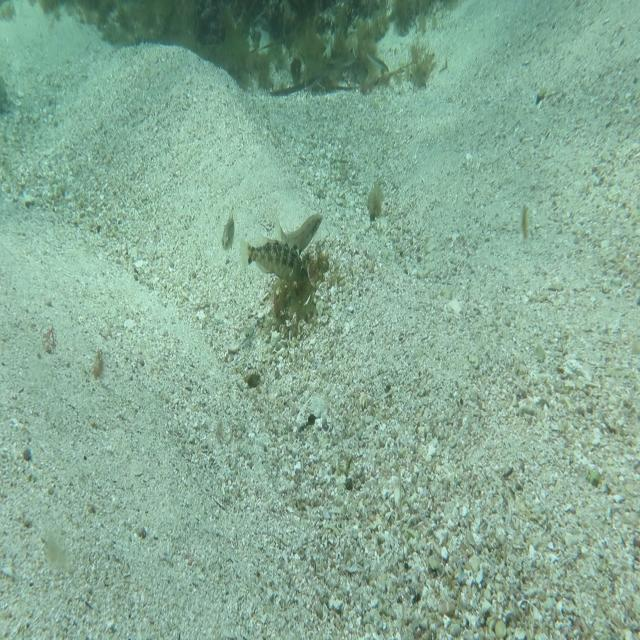NIP_CORE: (230, 236, 305, 288)
female: (274, 208, 324, 248), (216, 202, 238, 256)
nest: (262, 240, 328, 328)
vegetation: (83, 0, 450, 44), (216, 45, 434, 101), (366, 177, 386, 229)
